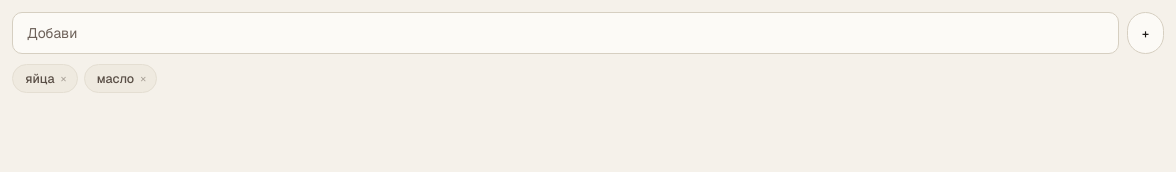
Test: TagInput › removes a tag when it is clicked
Click the text "яйца ✕": click(45, 78) [12, 64, 78, 93]
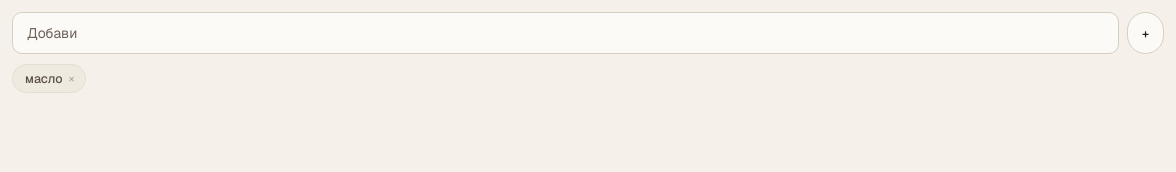
Now the text "яйца" is gone
